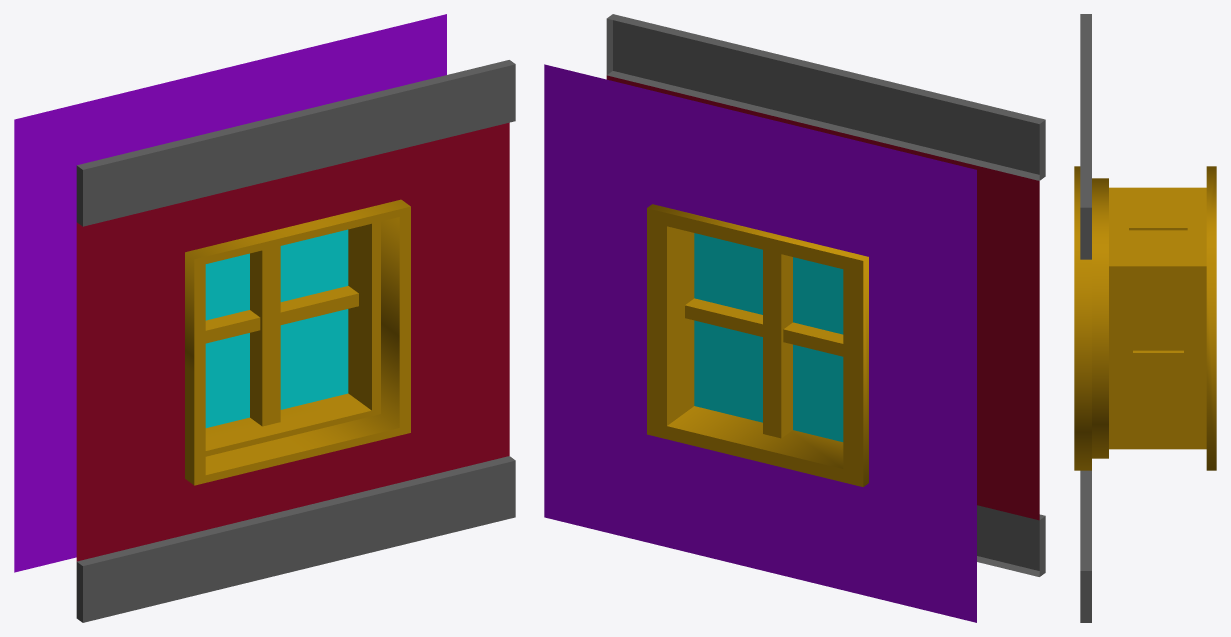
Rendered from Window_01_1x1.fbx.
The picture shows the model from 3 angles, left to right: view 1: azimuth 30°, elevation 25°; view 2: azimuth 150°, elevation 25°; view 3: azimuth 270°, elevation 25°; orthographic projection. The views are drawn at different scales.
Parts seen in each view (by area): view 1: Window_01_1x1; view 2: Window_01_1x1; view 3: Window_01_1x1.
Boxes of the visible parts, x1,y1,x2,y2 form: Window_01_1x1: (14,14,515,622); Window_01_1x1: (544,14,1045,622); Window_01_1x1: (1074,14,1216,622).
Bounding box in the file's own units: 1 × 1 × 0.3106.
